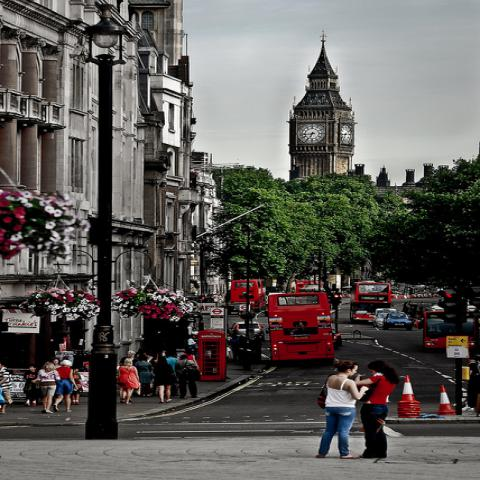bus: (269, 291, 338, 362), (423, 311, 476, 349), (348, 282, 391, 320), (231, 279, 263, 310), (269, 281, 309, 294)
car: (229, 321, 266, 340), (383, 312, 413, 331), (372, 308, 397, 325), (373, 312, 394, 328), (332, 326, 344, 347)
